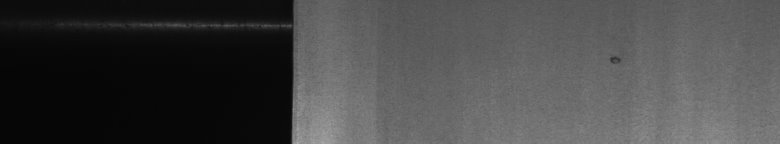fi: (608, 48, 622, 72)
